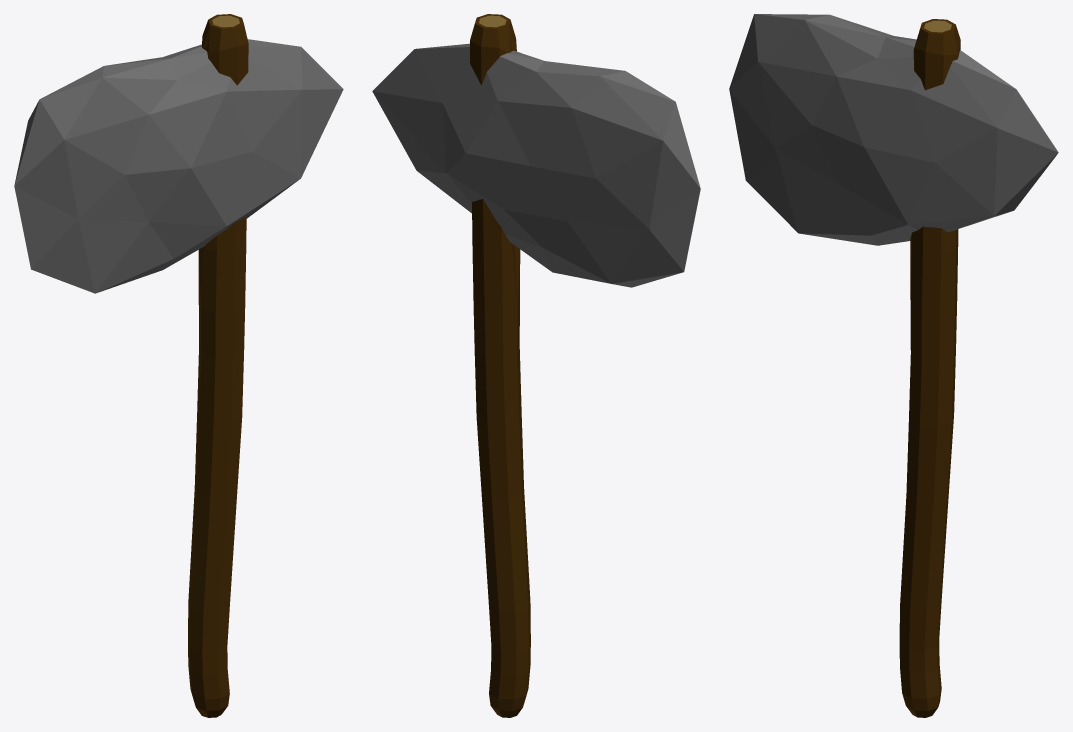
Rendered from stone_axe.glb.
The picture shows the model from 3 angles, left to right: view 1: azimuth 30°, elevation 25°; view 2: azimuth 150°, elevation 25°; view 3: azimuth 330°, elevation 25°; orthographic projection.
Visible parts, largest first — view 1: Axe; view 2: Axe; view 3: Axe.
Boxes of the visible parts, x1,y1,x2,y2 form: Axe: (14, 14, 343, 717); Axe: (372, 14, 700, 717); Axe: (729, 14, 1058, 717).
Size of the model in its own units: 129 by 257 by 25.18.
1 material, 1 textured.
